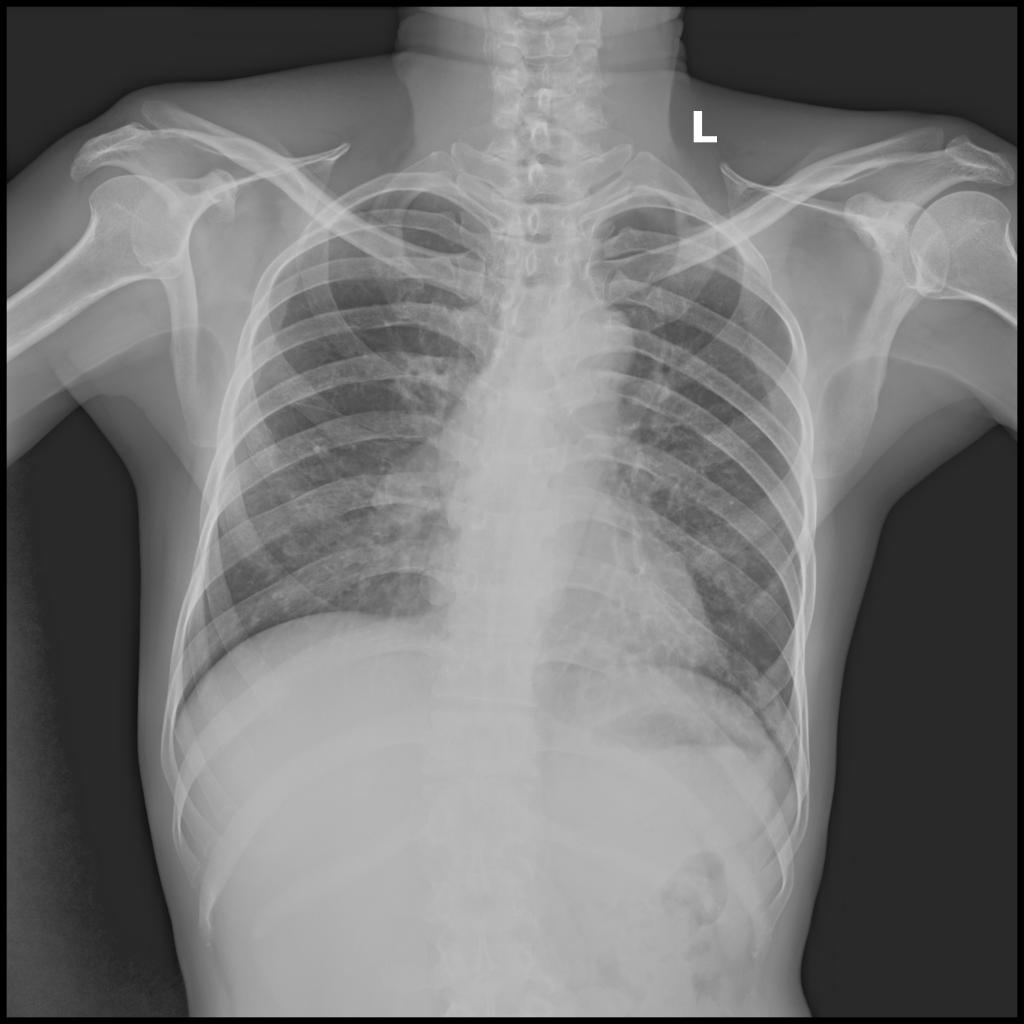Nodule: (280, 540, 306, 561)
